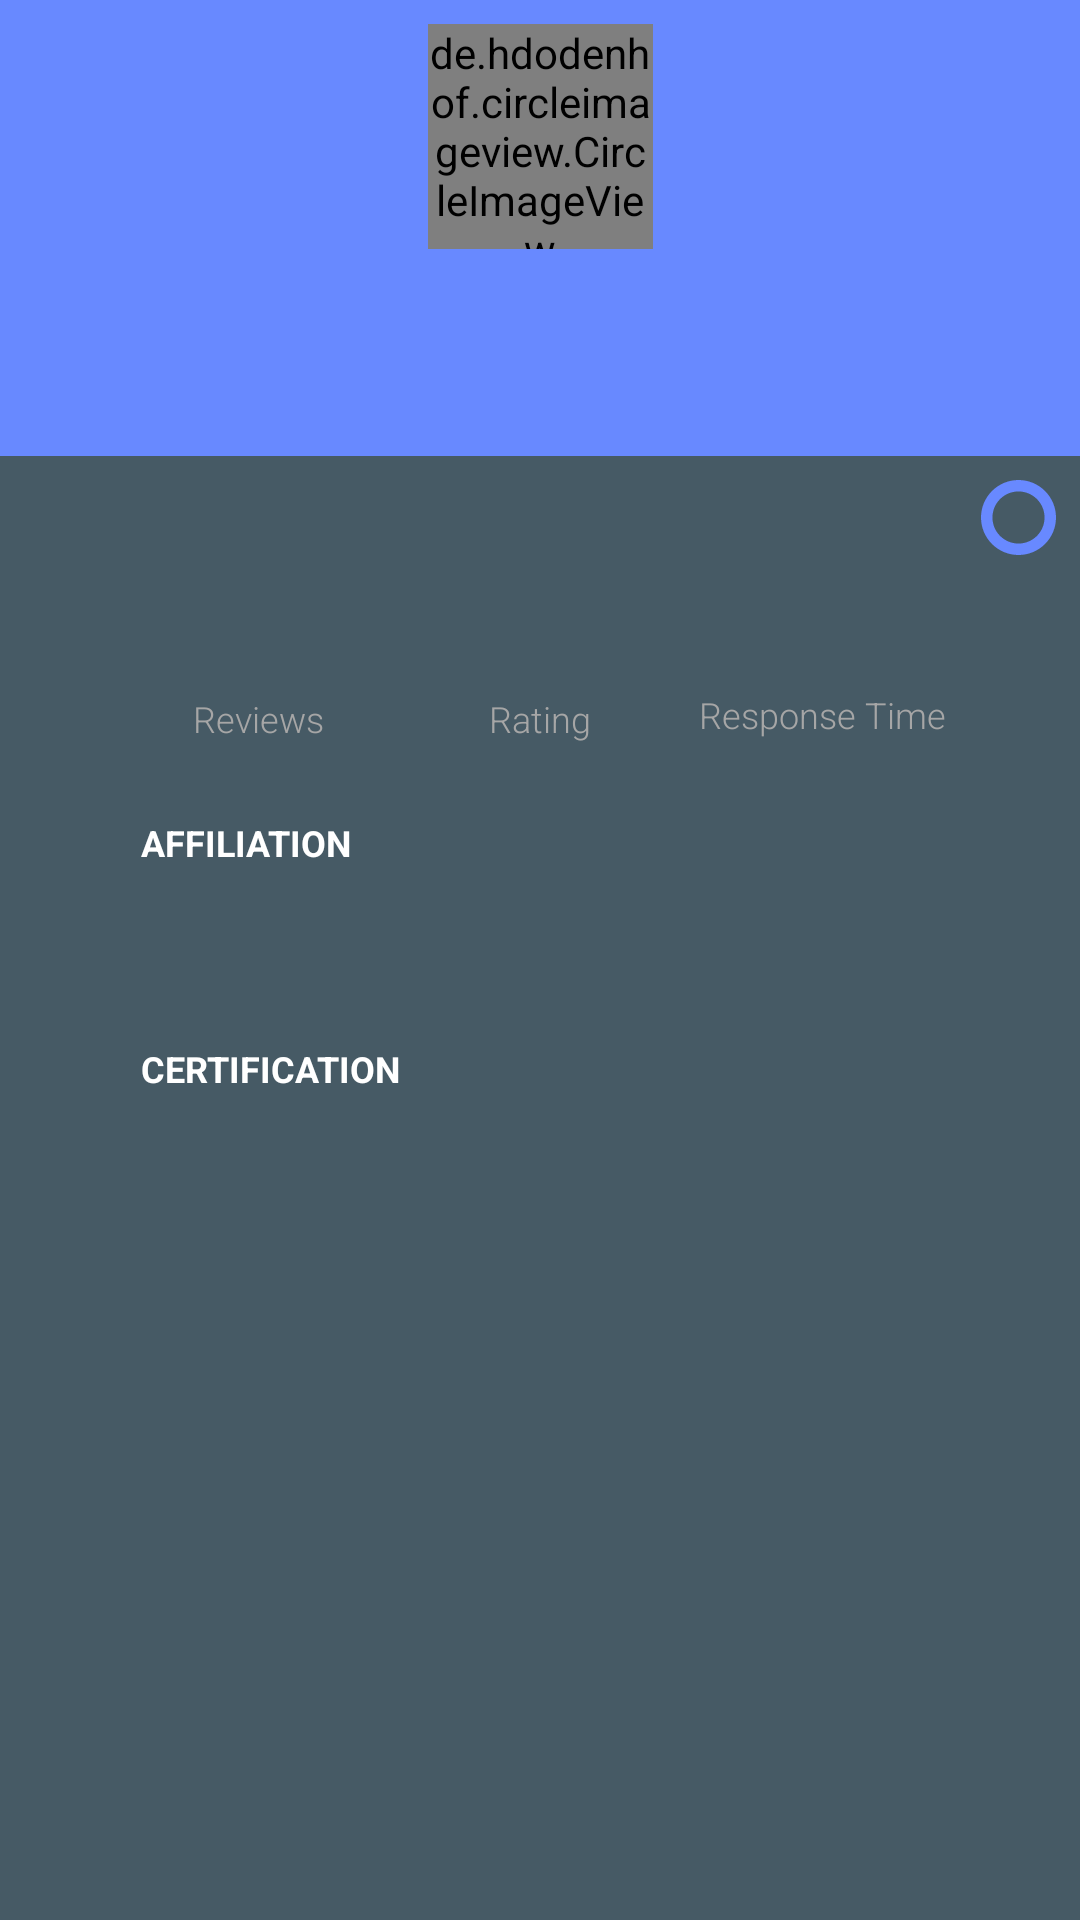

Where icons sit on this 1080*1920 app screen, as (x1, y1, x2, y2):
anim loading: (981, 480, 1056, 555)
